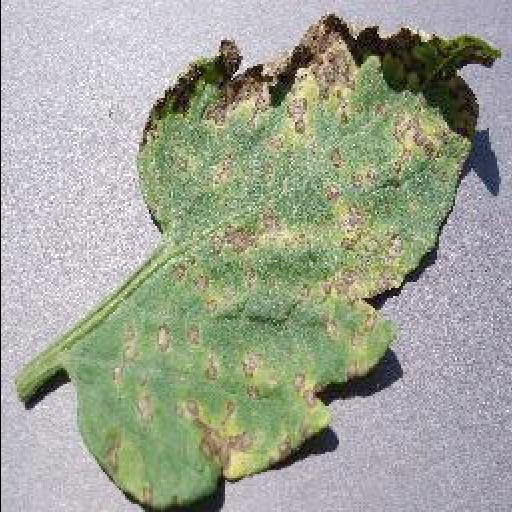disease_tomato: (70, 12, 500, 510)
